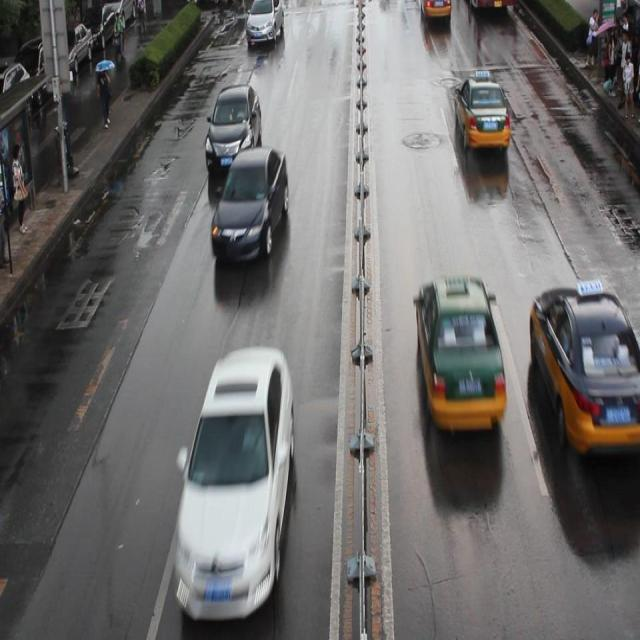car: (175, 345, 295, 617), (528, 285, 640, 457), (414, 272, 506, 433), (211, 147, 288, 263), (205, 86, 262, 174), (453, 74, 508, 151), (245, 1, 284, 44), (420, 1, 451, 18)
van: (466, 1, 516, 8)
